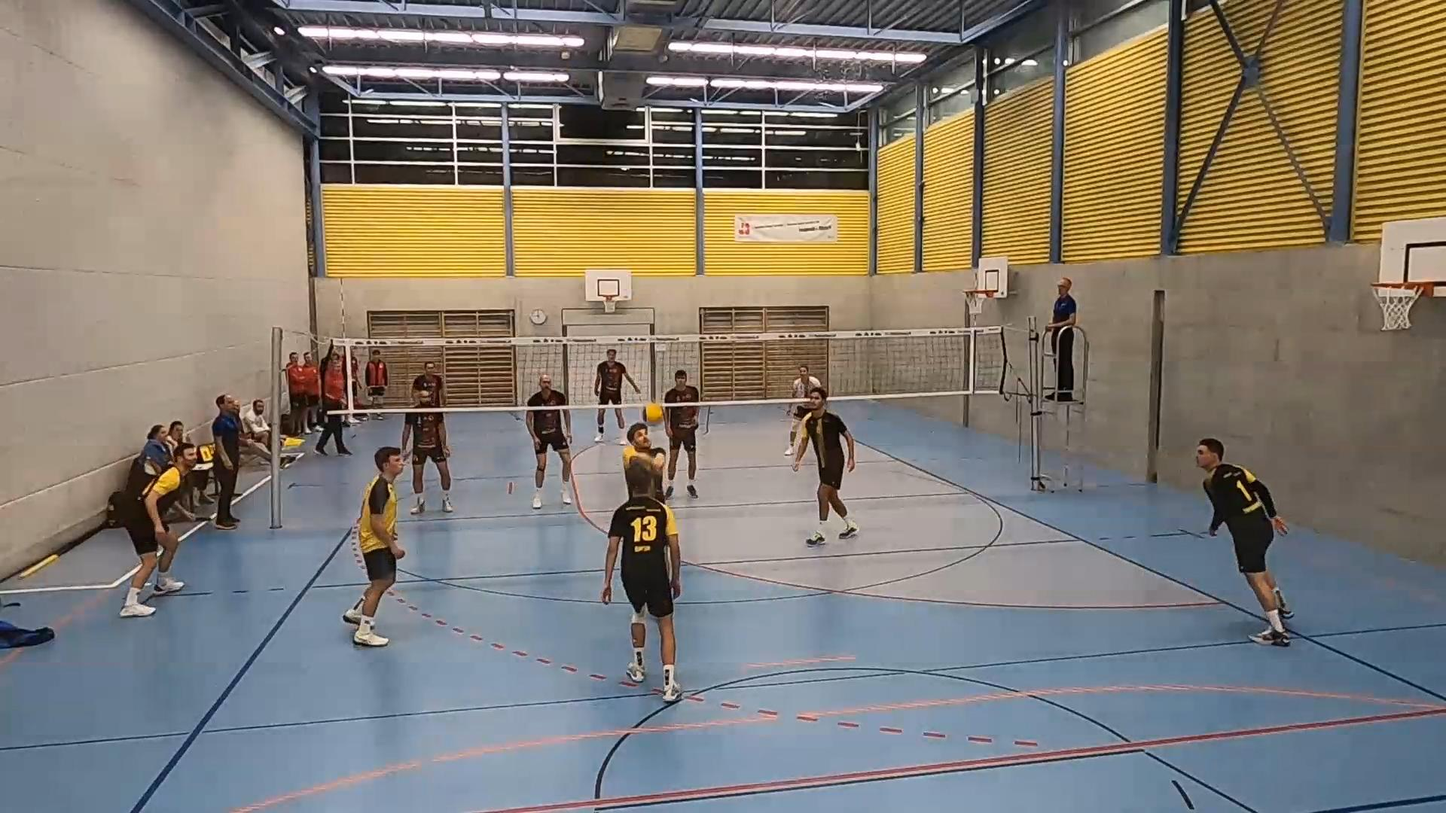Player: (1195, 438, 1291, 646), (601, 456, 682, 702), (120, 442, 197, 617), (343, 446, 404, 646), (793, 387, 858, 546), (401, 412, 453, 514), (664, 370, 700, 499), (526, 409, 572, 508), (594, 349, 639, 442), (786, 364, 821, 455), (413, 361, 444, 405)
Set: (619, 421, 667, 463)
ball: (638, 403, 667, 423)
